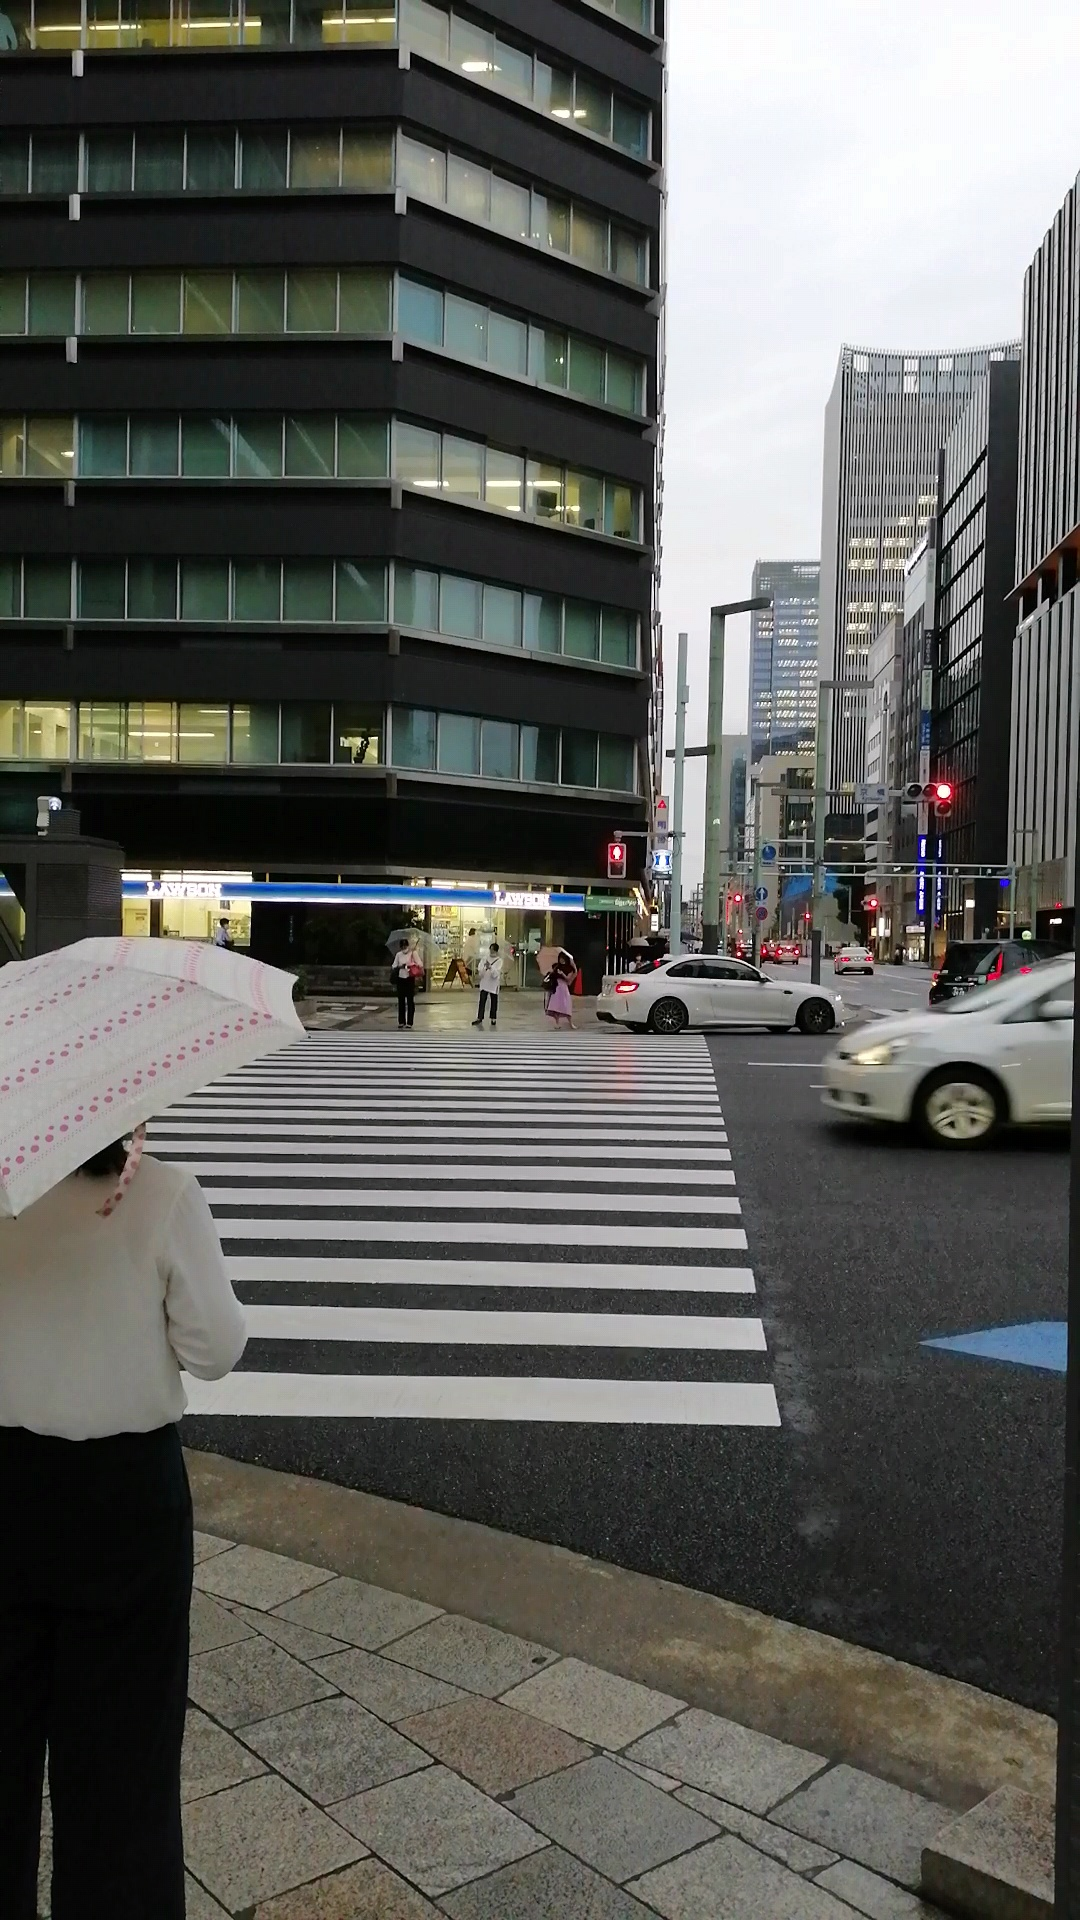red: (605, 841, 625, 881)
